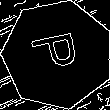P_E: (29, 32, 87, 78)
